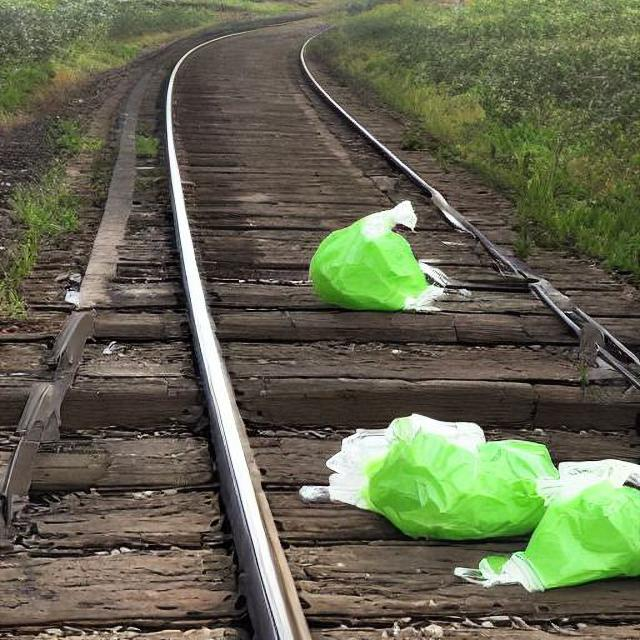plastic bag: (310, 418, 526, 534), (496, 463, 638, 583), (307, 201, 434, 311)
